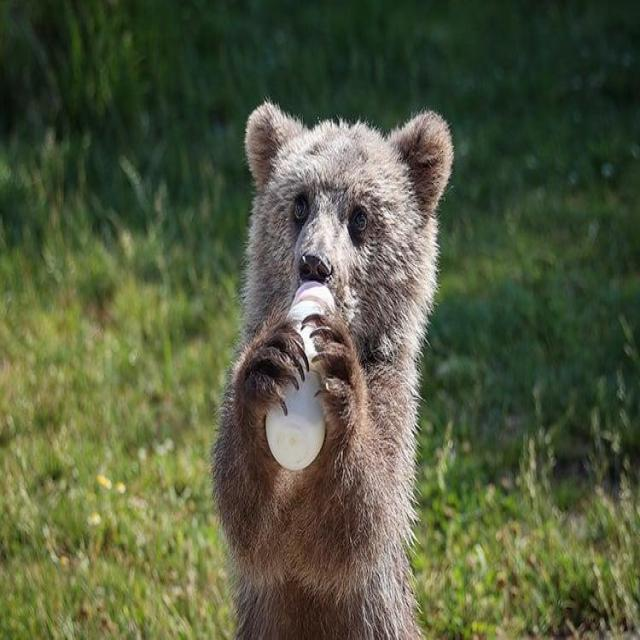Bear: (211, 101, 455, 640)
